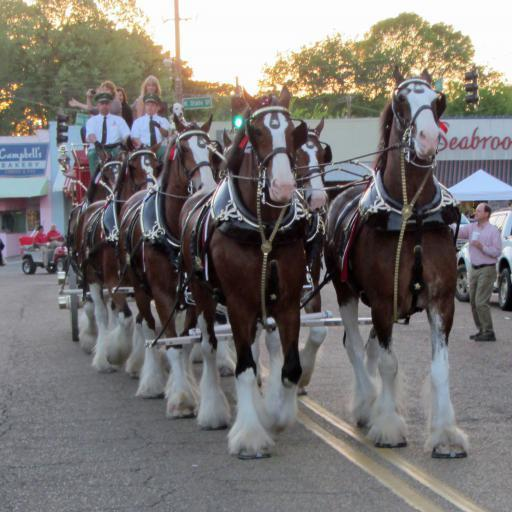horse: (76, 66, 472, 460)
